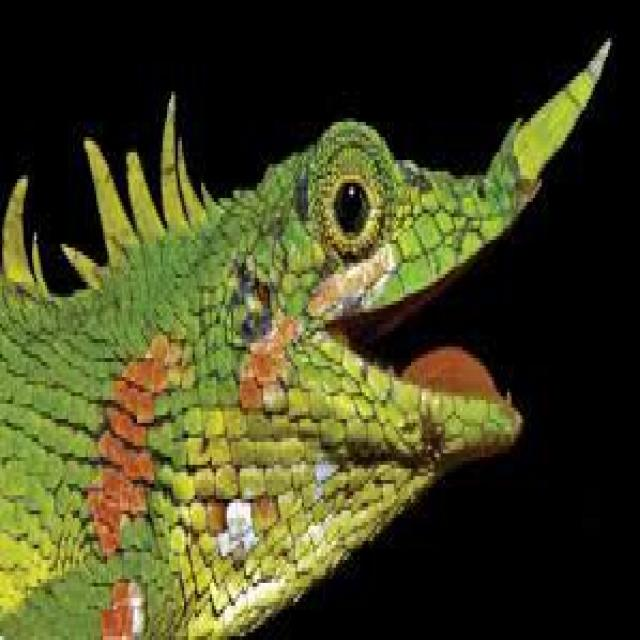Lizard: (0, 42, 606, 640)
